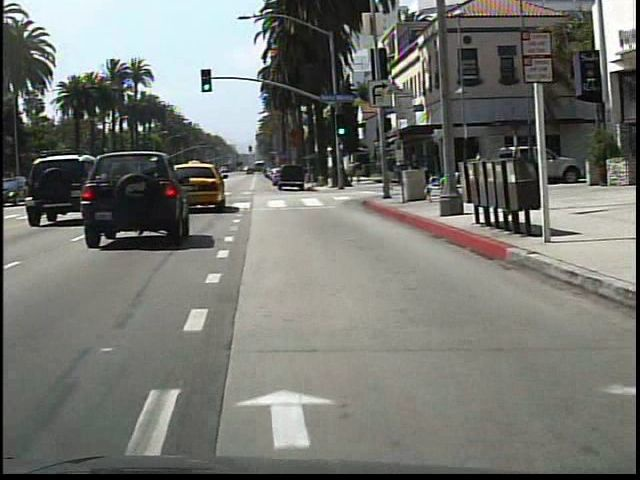person: (386, 151, 401, 194)
